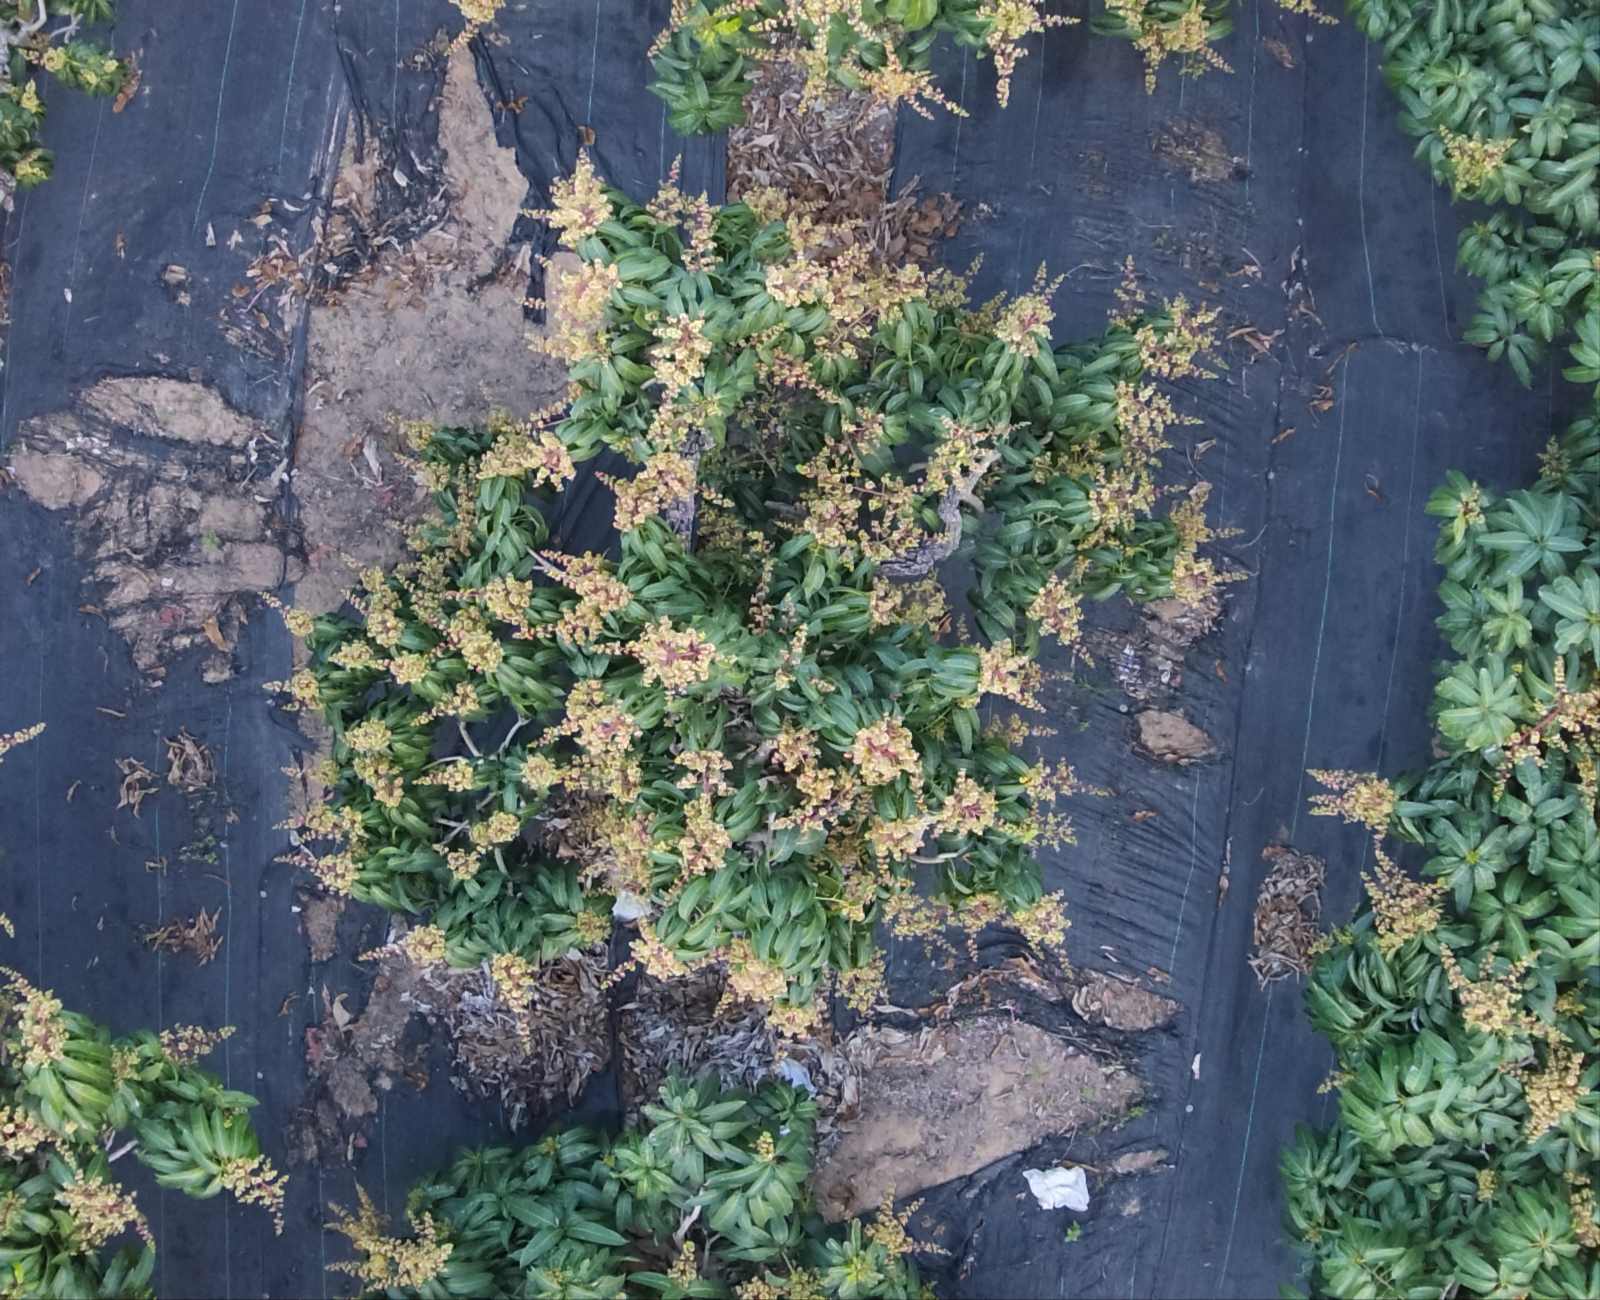flowers: (769, 712, 998, 934), (797, 406, 999, 572), (394, 474, 531, 673), (764, 215, 934, 353), (598, 430, 734, 552), (1493, 657, 1599, 807), (523, 679, 641, 803), (1088, 382, 1177, 543), (328, 1185, 452, 1288), (1092, 0, 1233, 92), (1441, 948, 1562, 1043), (976, 0, 1079, 107), (785, 0, 890, 102), (715, 937, 823, 1036), (528, 253, 621, 363), (532, 551, 632, 646), (1363, 848, 1445, 954), (601, 616, 716, 691), (965, 267, 1061, 356), (525, 150, 612, 248), (647, 313, 711, 444), (646, 157, 719, 271), (1170, 486, 1233, 608), (1504, 1043, 1583, 1139), (860, 46, 967, 117), (1134, 296, 1217, 378), (57, 1178, 151, 1250), (478, 421, 574, 489), (0, 968, 68, 1067), (434, 812, 520, 879), (1309, 769, 1396, 836), (865, 1197, 947, 1263), (219, 1154, 288, 1232), (612, 918, 693, 982), (972, 638, 1044, 710), (1439, 129, 1515, 192), (329, 639, 433, 684), (677, 796, 730, 881), (869, 576, 947, 633), (762, 348, 840, 403), (1027, 574, 1083, 649), (275, 844, 356, 894), (490, 952, 535, 1040), (0, 1104, 65, 1159), (950, 893, 1004, 956), (360, 925, 446, 964), (287, 800, 365, 844), (1011, 890, 1068, 948), (361, 568, 403, 646), (159, 1024, 235, 1065), (837, 950, 885, 1013), (448, 0, 505, 53), (736, 1267, 827, 1299), (1020, 759, 1089, 800), (674, 749, 732, 797), (353, 755, 403, 807), (417, 683, 479, 724), (1109, 255, 1146, 324), (647, 0, 693, 56), (1566, 1173, 1599, 1247), (263, 669, 322, 710), (775, 619, 807, 688), (986, 714, 1053, 746), (395, 452, 448, 491), (415, 757, 474, 791), (0, 80, 44, 119), (212, 1089, 257, 1126), (344, 718, 391, 751), (667, 1239, 698, 1289), (434, 846, 479, 879), (1276, 0, 1339, 24), (13, 149, 50, 188), (1539, 436, 1571, 482), (1307, 927, 1351, 956), (576, 909, 610, 944), (1576, 756, 1599, 811), (398, 419, 434, 450), (0, 1190, 23, 1238), (111, 1047, 139, 1084), (844, 1255, 877, 1285), (1554, 984, 1584, 1016), (20, 46, 62, 69), (283, 608, 314, 635), (310, 759, 340, 787), (750, 601, 771, 635), (1477, 1167, 1497, 1201), (754, 1132, 775, 1162), (923, 716, 949, 742), (809, 677, 834, 692), (957, 694, 978, 708), (915, 1284, 937, 1299)
